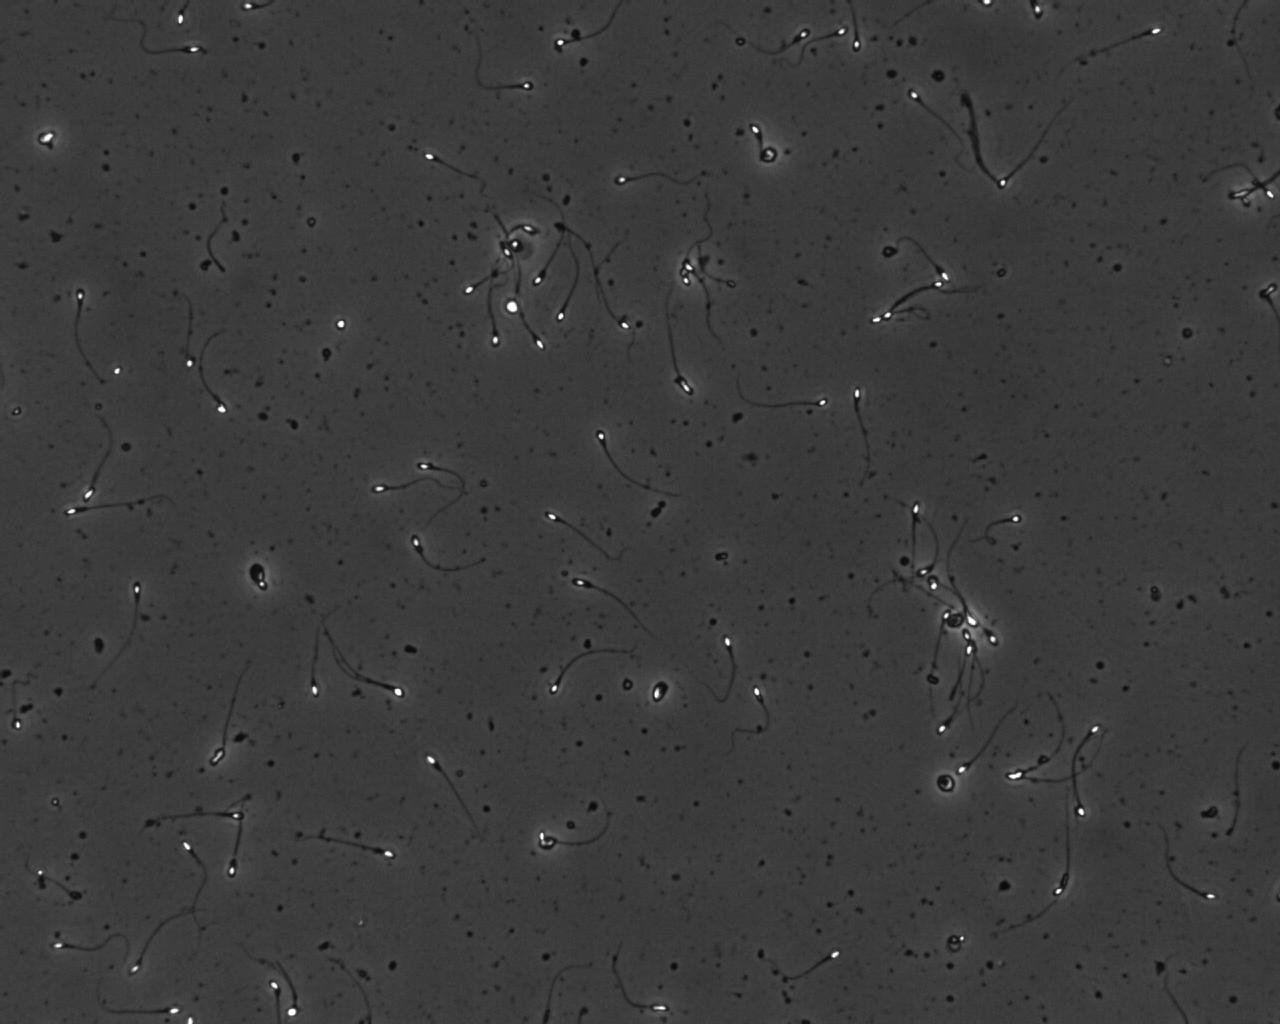cell: (485, 277, 543, 333), (933, 771, 959, 796), (467, 309, 492, 333)
